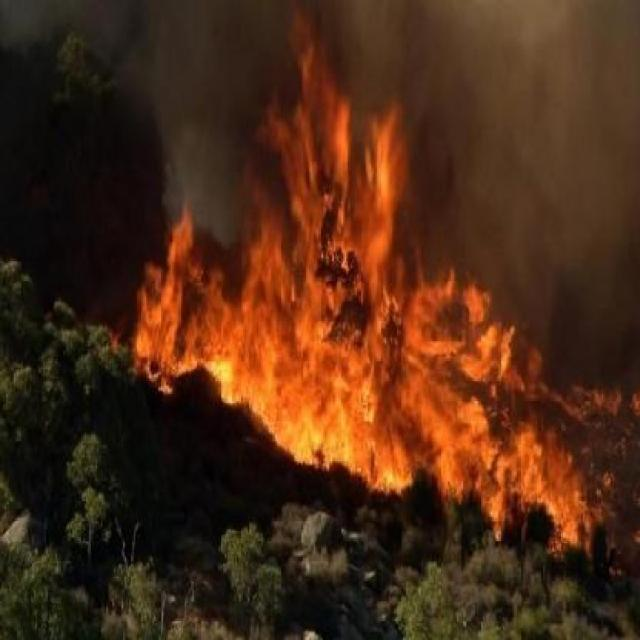Fire: (120, 150, 628, 586)
Smoke: (404, 24, 640, 258)
